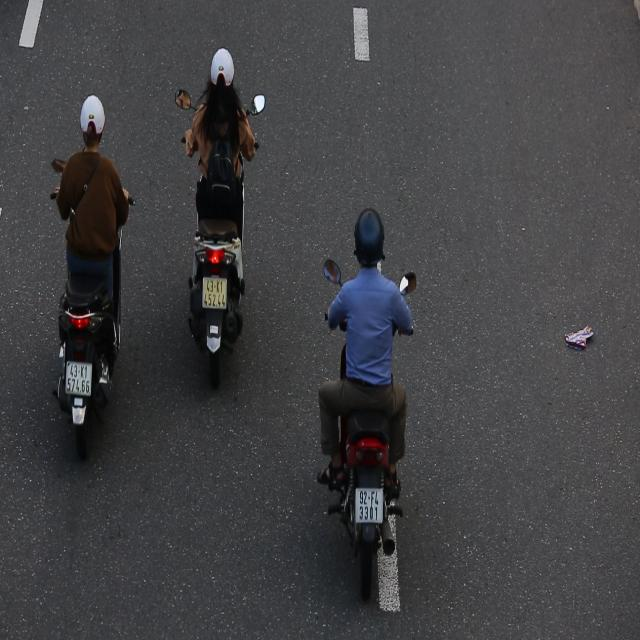motorbike: (314, 201, 426, 611), (46, 89, 138, 465), (173, 37, 269, 395)
